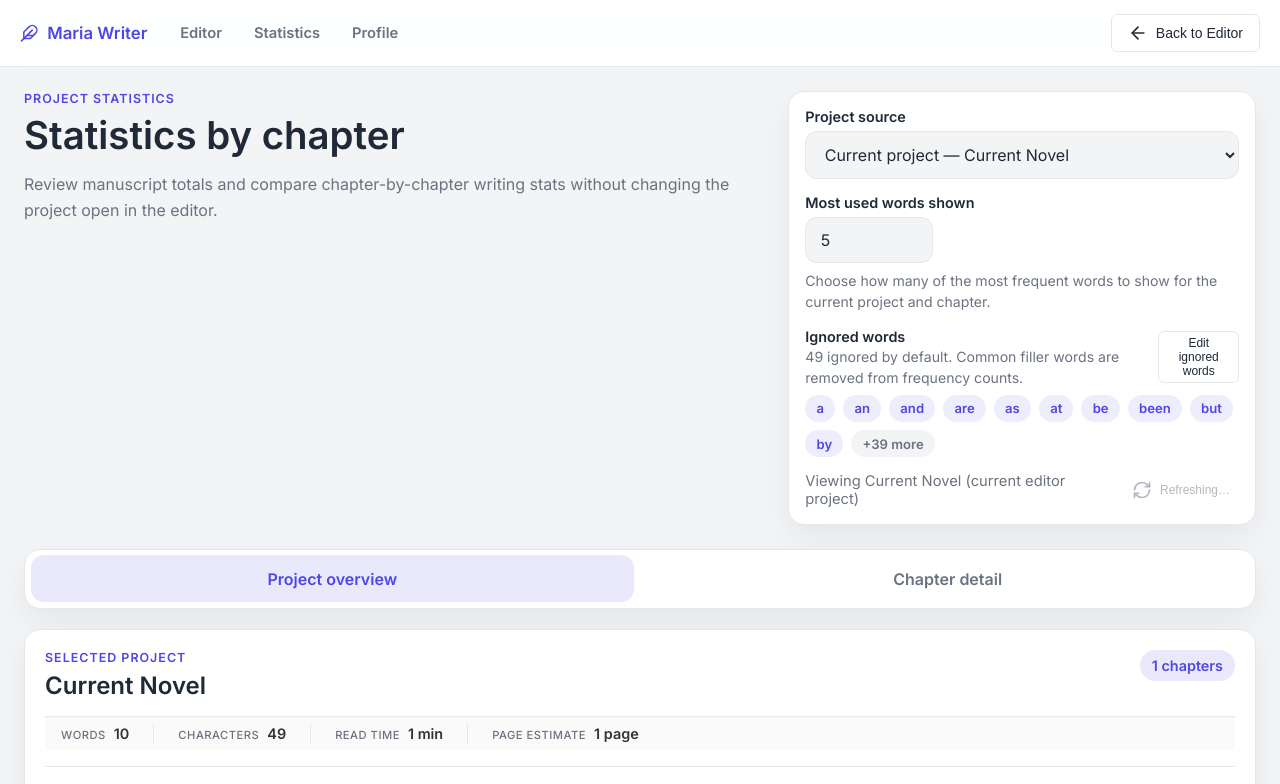
Test case: ProjectStatisticsPage › opens the first chapter from the chapter detail tab even before a chapter row is selected
Click the tab "Chapter detail". click: (948, 579)
box: [646,555,1249,602]
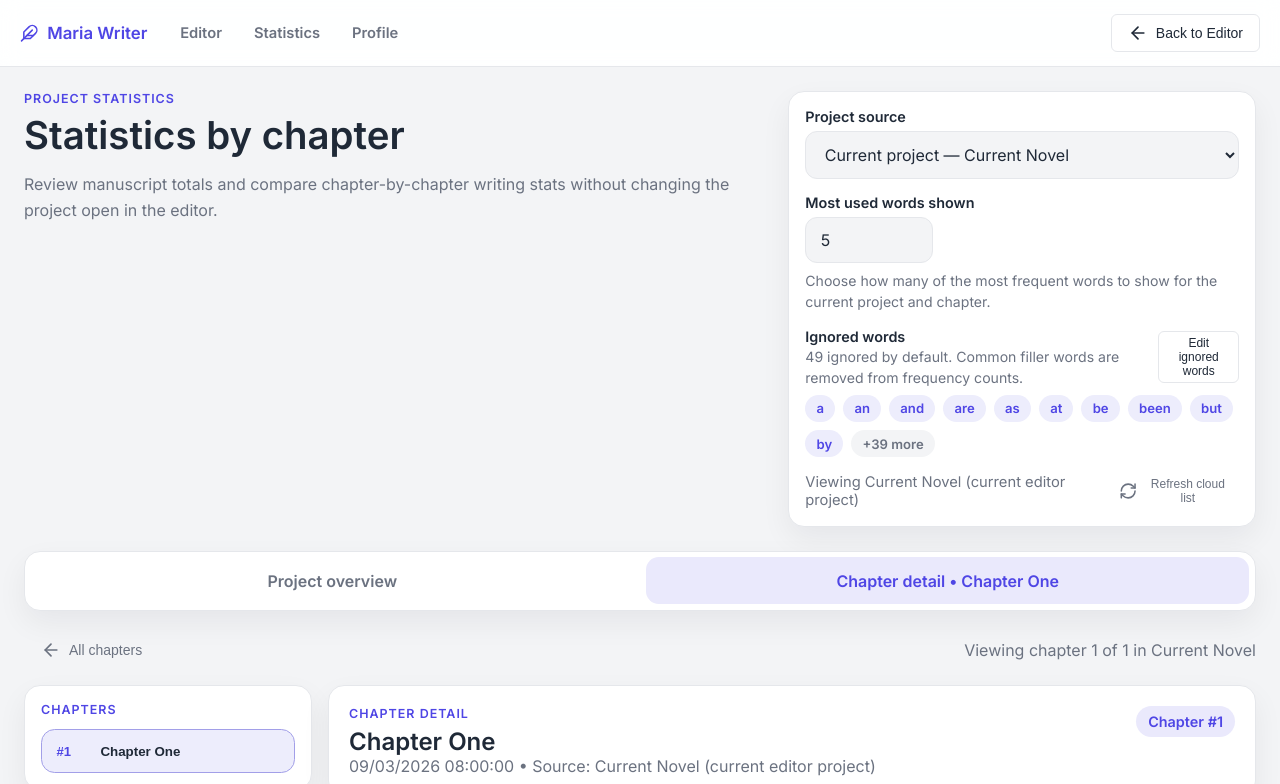
Now the heading "Chapter One" is shown, box [349,727,496,756]
Now the button "All chapters" is shown, box [24,631,159,669]
